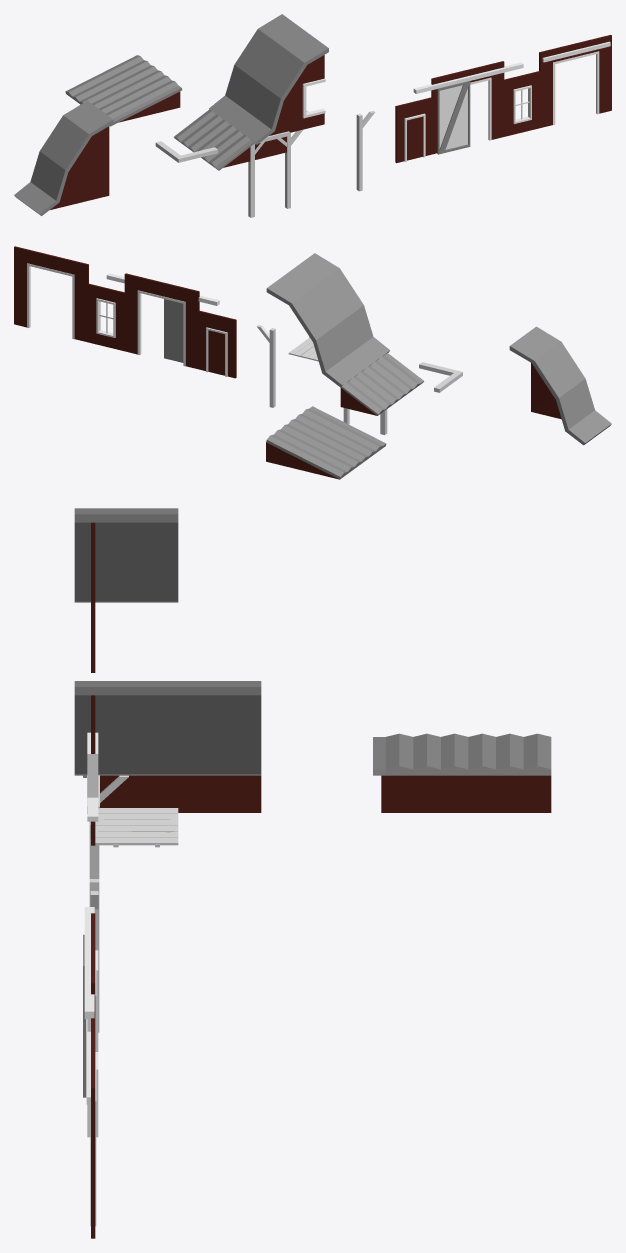
Rendered from Barn.fbx.
3 views of the same model, one above another, from view 1: azimuth 30°, elevation 25°; view 2: azimuth 150°, elevation 25°; view 3: azimuth 270°, elevation 25° (orthographic). The views are drawn at different scales.
Visible parts, largest first — view 1: Roof Section 3, Roof Section 1, Roof Section 2, Barn Door 1, Roof 1 End, Barn Door 3, Door, Roof 1, Wall Window, Roof 2 End, Wall, Roof 2 (+6 smaller); view 2: Roof Section 3, Roof Section 1, Roof Section 2, Barn Door 3, Barn Door 1, Roof 1, Roof 1 End, Wall, Wall Window, Roof 2, Roof 2 End, Door (+4 smaller); view 3: Roof Section 1, Roof Section 3, Roof Section 2, Roof 1 End, Roof 1, Roof 2, Wood Floor, Roof 2 End, Barn Door 1, Barn Door 3.
Boxes of the visible parts, x1,y1,x2,y2 form: Roof Section 3: [14, 100, 113, 215]; Roof Section 1: [229, 29, 328, 144]; Roof Section 2: [209, 14, 302, 123]; Barn Door 1: [539, 35, 611, 127]; Roof 1 End: [92, 70, 182, 126]; Barn Door 3: [413, 61, 523, 154]; Door: [437, 80, 470, 154]; Roof 1: [65, 55, 157, 104]; Wall Window: [504, 71, 540, 136]; Roof 2 End: [195, 125, 254, 170]; Wall: [396, 97, 432, 162]; Roof 2: [174, 109, 229, 152]; Roof Section 3: [509, 326, 611, 445]; Roof Section 1: [288, 253, 389, 369]; Roof Section 2: [266, 272, 363, 387]; Barn Door 3: [106, 273, 219, 369]; Barn Door 1: [14, 246, 88, 342]; Roof 1: [266, 424, 361, 479]; Roof 1 End: [288, 406, 386, 463]; Wall: [198, 311, 236, 378]; Wall Window: [88, 283, 124, 351]; Roof 2: [340, 371, 399, 415]; Roof 2 End: [363, 353, 423, 399]; Door: [164, 299, 183, 362]; Roof Section 1: [74, 681, 178, 845]; Roof Section 3: [74, 508, 178, 672]; Roof Section 2: [178, 681, 261, 775]; Roof 1 End: [373, 733, 468, 812]; Roof 1: [468, 733, 551, 812]; Roof 2: [178, 775, 261, 812]; Wood Floor: [95, 808, 178, 847]; Roof 2 End: [83, 775, 178, 807]; Barn Door 1: [86, 1018, 96, 1238]; Barn Door 3: [84, 907, 96, 1051].
Size of the model in its own units: 3209 by 822 by 1150.
